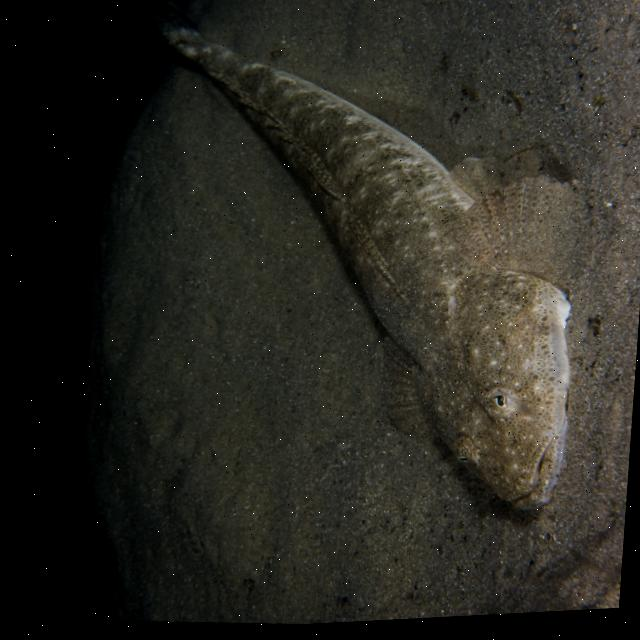Flathead: (96, 0, 619, 535)
